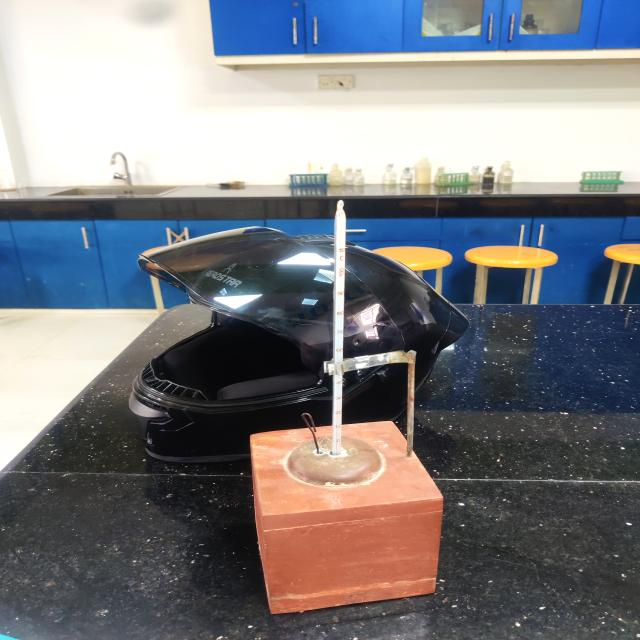Calorimeter: (222, 182, 473, 640)
